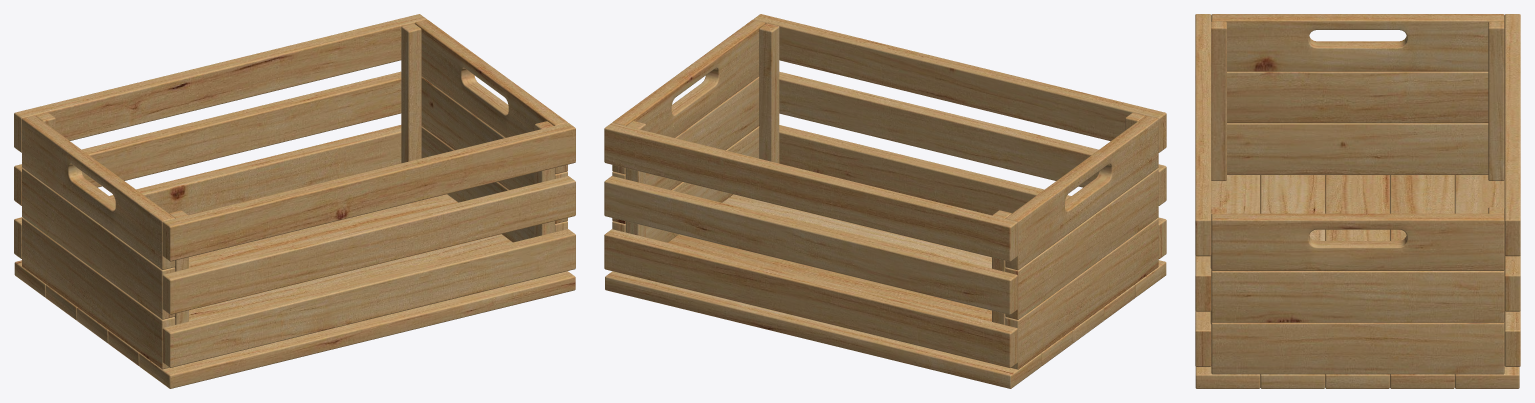
Rendered from Crate.fbx.
The picture shows the model from 3 angles, left to right: view 1: azimuth 30°, elevation 25°; view 2: azimuth 150°, elevation 25°; view 3: azimuth 270°, elevation 25°; orthographic projection. The views are drawn at different scales.
Parts seen in each view (by area): view 1: Plane.001; view 2: Plane.001; view 3: Plane.001.
Boxes of the visible parts, box(x1,y1,x2,y2) form: Plane.001: box(14, 14, 575, 388); Plane.001: box(604, 14, 1166, 388); Plane.001: box(1195, 14, 1520, 388).
Size of the model in its own units: 2.73 by 1.05 by 1.82.
1 material, 1 textured.
